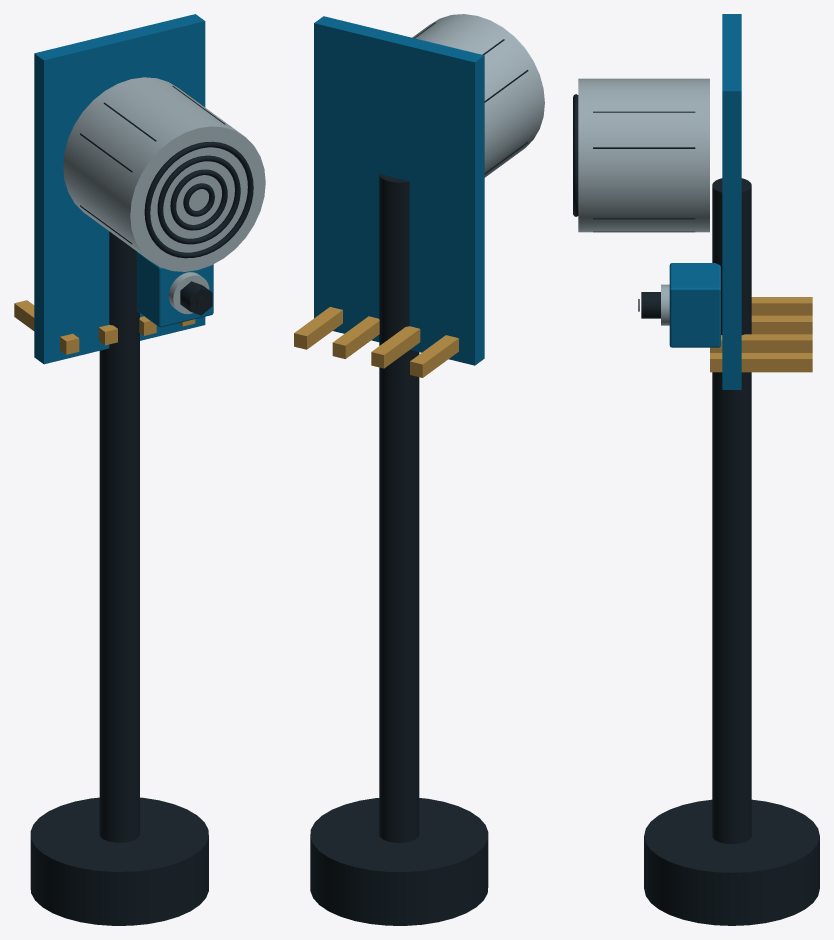
3 views of the same model, side by side, from view 1: azimuth 30°, elevation 25°; view 2: azimuth 150°, elevation 25°; view 3: azimuth 270°, elevation 25° (orthographic).
Visible parts, largest first — view 1: black-anodised, blue-pcb, stainless-steel, plated-brass; view 2: blue-pcb, black-anodised, stainless-steel, plated-brass; view 3: black-anodised, stainless-steel, blue-pcb, plated-brass.
Boxes of the visible parts, x1=… form: black-anodised: x1=30, y1=86, x2=253, y2=925; blue-pcb: x1=34, y1=14, x2=213, y2=364; stainless-steel: x1=63, y1=77, x2=265, y2=314; plated-brass: x1=14, y1=300, x2=195, y2=354; blue-pcb: x1=314, y1=16, x2=484, y2=365; black-anodised: x1=310, y1=22, x2=528, y2=925; stainless-steel: x1=412, y1=14, x2=544, y2=177; plated-brass: x1=294, y1=307, x2=458, y2=377; black-anodised: x1=573, y1=94, x2=819, y2=925; stainless-steel: x1=578, y1=78, x2=709, y2=325; blue-pcb: x1=669, y1=14, x2=741, y2=389; plated-brass: x1=710, y1=297, x2=812, y2=372.
Size of the model in its own units: 0.25 by 1.26 by 0.337.
